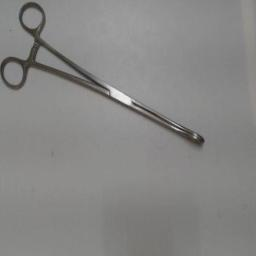Sponge Forceps: (0, 0, 210, 150)
